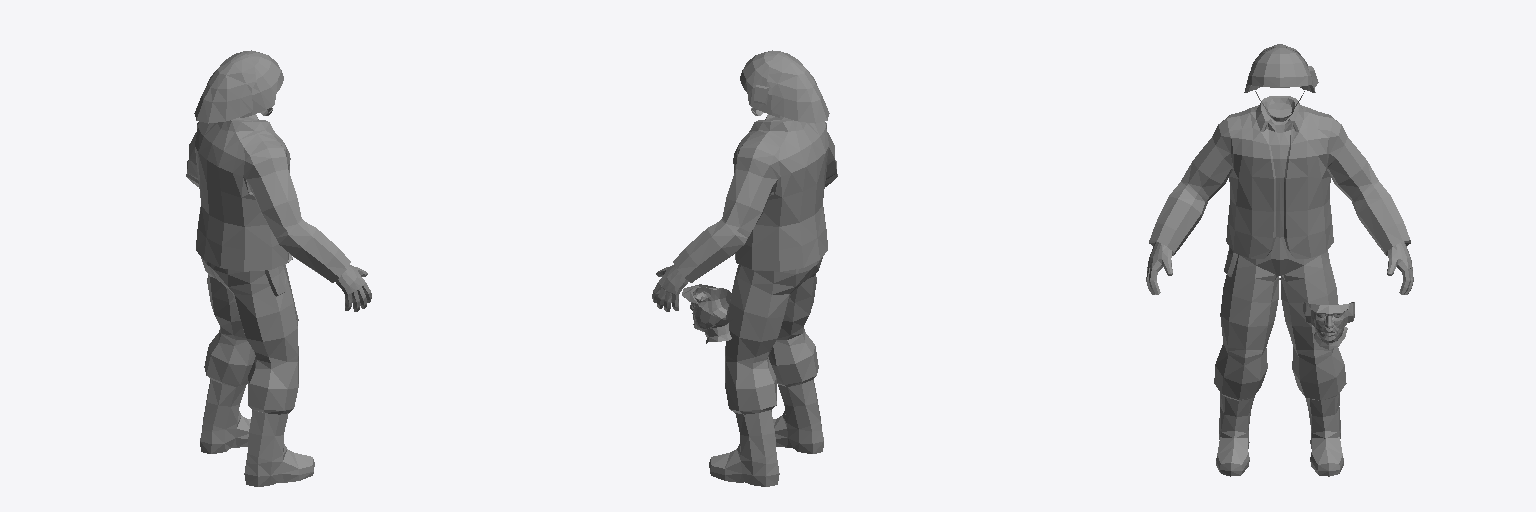
Rendered from REB_soldier_Vanguard.obj.
The picture shows the model from 3 angles: view 1: azimuth 30°, elevation 25°; view 2: azimuth 150°, elevation 25°; view 3: azimuth 270°, elevation 25°; orthographic projection.
Parts seen in each view (by area): view 1: REB_soldier_static_a_1; view 2: REB_soldier_static_a_1, REB_soldier_static_a_0; view 3: REB_soldier_static_a_1, REB_soldier_static_a_0.
Boxes of the visible parts, <box> form: REB_soldier_static_a_1: <box>186,50,371,486</box>; REB_soldier_static_a_1: <box>652,50,837,486</box>; REB_soldier_static_a_0: <box>682,284,732,343</box>; REB_soldier_static_a_1: <box>1146,44,1413,476</box>; REB_soldier_static_a_0: <box>1303,302,1354,349</box>.
Bounding box in the file's own units: 9.74 × 32 × 18.96.